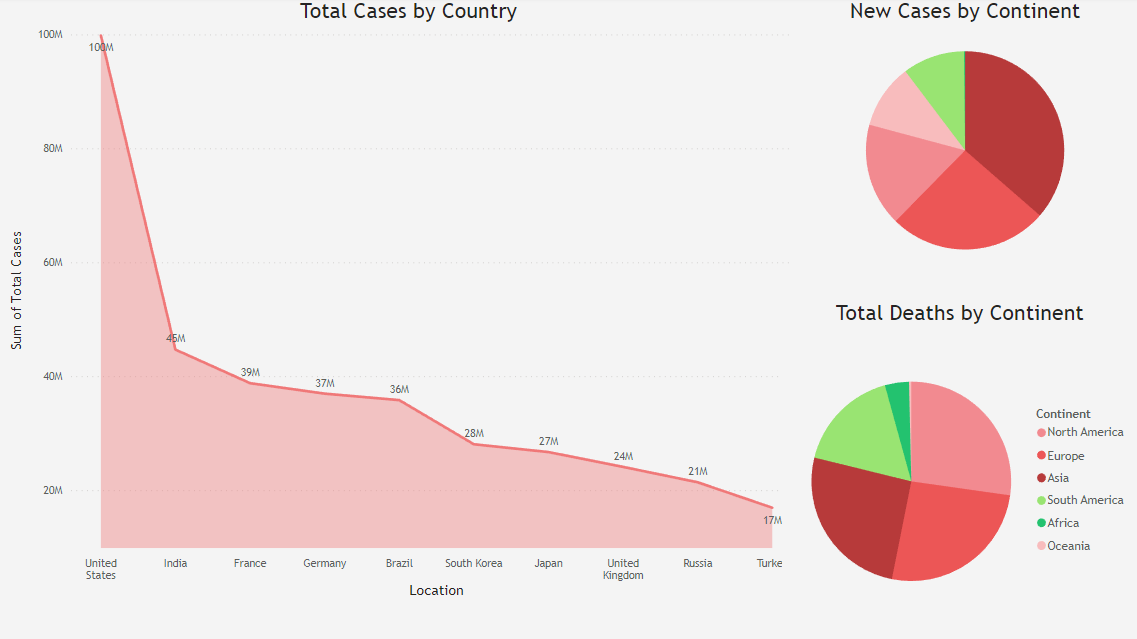

This screenshot's page, from the dashboard's own definition file:
{"tool":"powerbi","page":{"name":"Page 1","canvas":[1280,720],"ordinal":0},"visuals":[{"type":"areaChart","title":"Total Cases by Country","fields":{"Category":["Covid Final.Country"],"Y":["Sum(Covid Final.Total Cases)"]},"box":[10,0,905,680],"z":0},{"type":"pieChart","title":"Total Deaths by Continent","fields":{"Category":["Covid Final.Continent"],"Y":["Sum(Covid Final.Total Deaths)"]},"box":[881.2,338.8,398.8,381.2],"z":1000},{"type":"pieChart","title":"New Cases by Continent","fields":{"Category":["Covid Final.Continent"],"Y":["Sum(Covid Final.New Cases)"]},"box":[893.8,0,386.2,316.2],"z":2000}]}

Visuals, with their boxes in screenshot pixels (x1, y1, x2, y2), scaled from the page's 1280x720 canvas onto the 1137x639 screenshot:
"Total Cases by Country" areaChart: region(9, 0, 813, 604)
"Total Deaths by Continent" pieChart: region(783, 301, 1136, 638)
"New Cases by Continent" pieChart: region(794, 0, 1136, 281)
